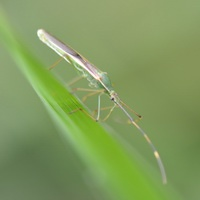insect: (37, 29, 166, 183), (37, 29, 140, 122)
